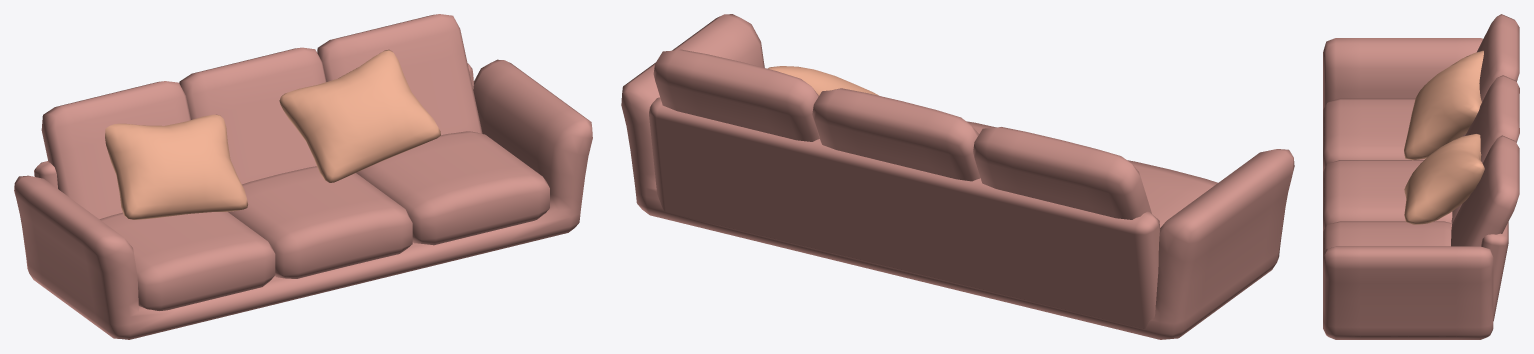
The model's file is couch1.glb.
3 views of the same model, side by side, from view 1: azimuth 30°, elevation 25°; view 2: azimuth 150°, elevation 25°; view 3: azimuth 270°, elevation 25° (orthographic). The views are drawn at different scales.
Visible parts, largest first — view 1: Cube 57, Cube 63 (×3), Cube 58, Cube 59, Cube 71, Cube 60, Cube 72, Cube 62; view 2: Cube 62, Cube 63 (×3), Cube 57, Cube 60, Cube 71; view 3: Cube 57, Cube 63 (×3), Cube 59, Cube 60, Cube 72, Cube 71, Cube 58, Cube 62.
Part boxes in pixels (<box>): Cube 57: <box>14,59,592,339</box>; Cube 63 (×3): <box>41,14,482,219</box>; Cube 58: <box>356,131,549,245</box>; Cube 59: <box>228,166,412,278</box>; Cube 71: <box>279,49,440,182</box>; Cube 60: <box>99,212,275,310</box>; Cube 72: <box>105,114,247,219</box>; Cube 62: <box>34,63,473,188</box>; Cube 62: <box>649,97,1160,328</box>; Cube 63 (×3): <box>653,49,1151,219</box>; Cube 57: <box>621,14,1294,339</box>; Cube 60: <box>1127,160,1217,227</box>; Cube 71: <box>768,66,879,95</box>; Cube 57: <box>1323,38,1493,339</box>; Cube 63 (×3): <box>1451,14,1519,246</box>; Cube 59: <box>1323,160,1452,230</box>; Cube 60: <box>1323,98,1425,171</box>; Cube 72: <box>1404,50,1483,160</box>; Cube 71: <box>1404,134,1484,224</box>; Cube 58: <box>1323,221,1452,257</box>; Cube 62: <box>1481,222,1508,321</box>.
Size of the model in its own units: 4.81 by 1.46 by 1.83.
